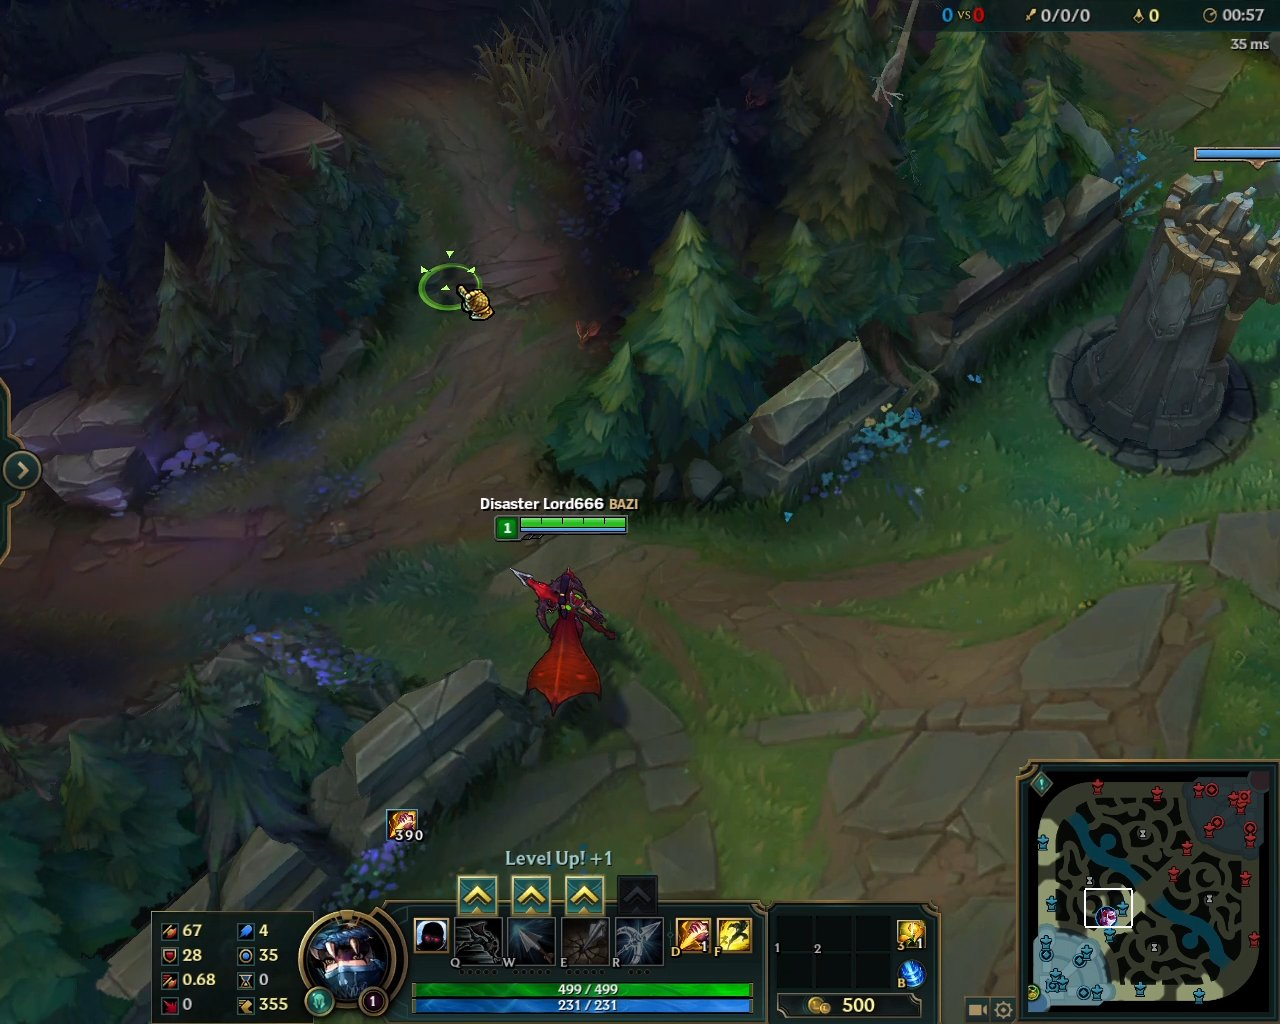Vayne: (509, 555, 623, 720)
